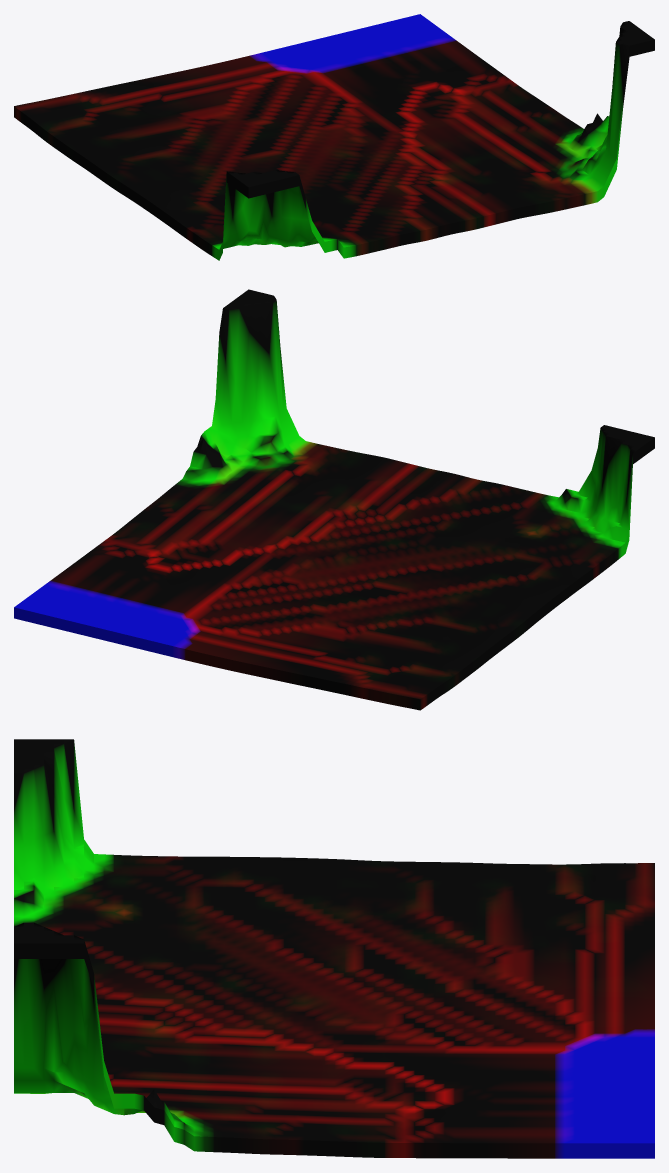
The model's file is Terrain_05_05.fbx.
3 views of the same model, one above another, from view 1: azimuth 30°, elevation 25°; view 2: azimuth 150°, elevation 25°; view 3: azimuth 270°, elevation 25° (orthographic). The views are drawn at different scales.
Visible parts, largest first — view 1: Terrain_05_05_LOD0; view 2: Terrain_05_05_LOD0; view 3: Terrain_05_05_LOD0.
Boxes of the visible parts, x1,y1,x2,y2 form: Terrain_05_05_LOD0: [14, 14, 654, 260]; Terrain_05_05_LOD0: [14, 289, 654, 710]; Terrain_05_05_LOD0: [14, 739, 654, 1158].
Size of what is drawn, in the model's own units: 384 by 142 by 384.
